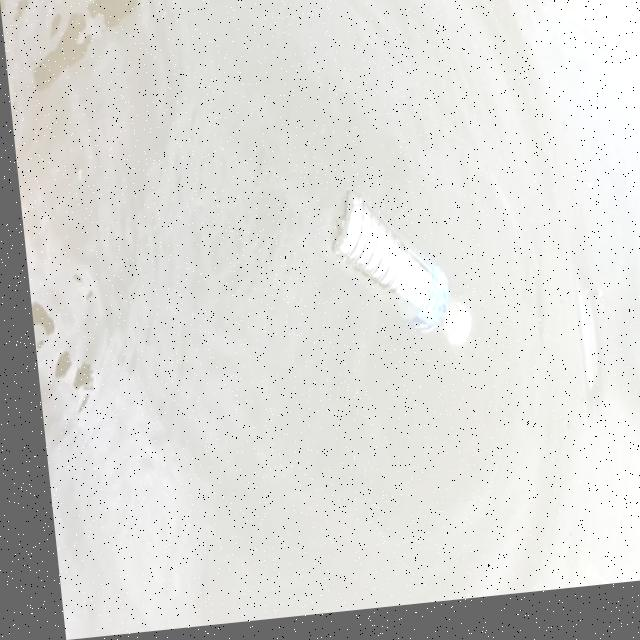waterbottle: (306, 173, 476, 380)
